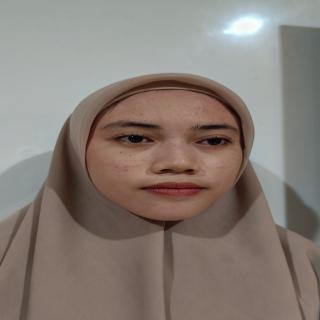Netral: (74, 74, 273, 229)
